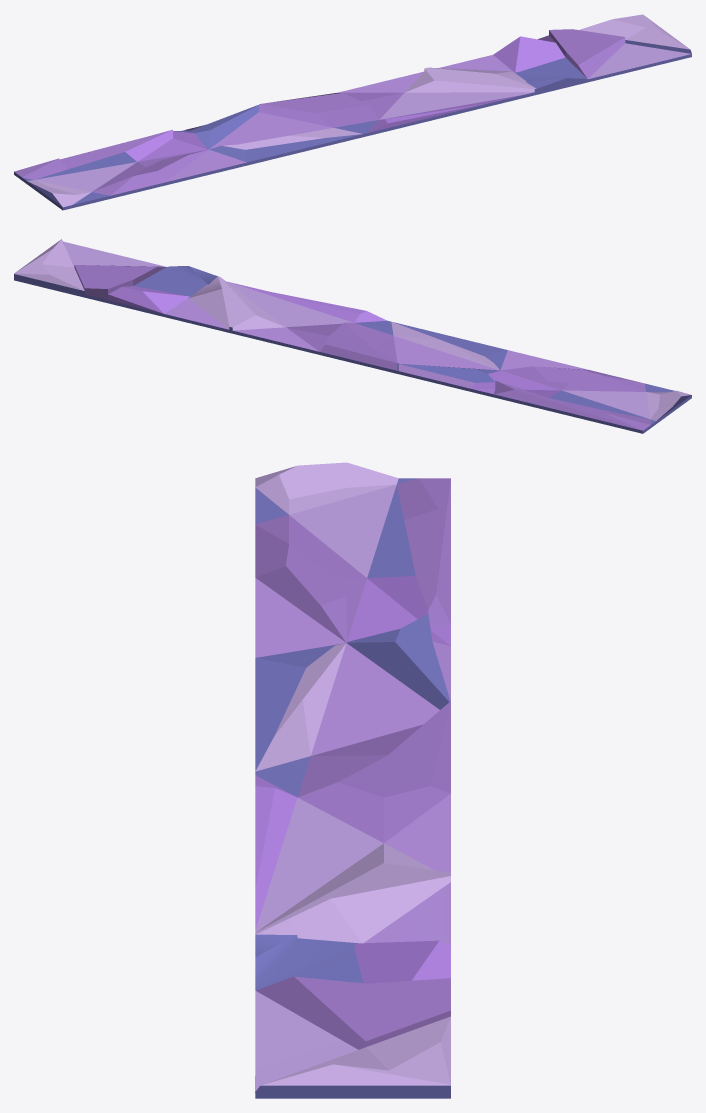
The model's file is hall_purple.fbx.
The picture shows the model from 3 angles, top to bottom: view 1: azimuth 30°, elevation 25°; view 2: azimuth 150°, elevation 25°; view 3: azimuth 270°, elevation 25°; orthographic projection. The views are drawn at different scales.
Visible parts, largest first — view 1: pCube2; view 2: pCube2; view 3: pCube2.
Boxes of the visible parts, left/top/right/bottom form: pCube2: left=14, top=14, right=691, bottom=210; pCube2: left=14, top=239, right=691, bottom=433; pCube2: left=255, top=462, right=450, bottom=1098.
Bounding box in the file's own units: 214 × 5.72 × 28.7.
